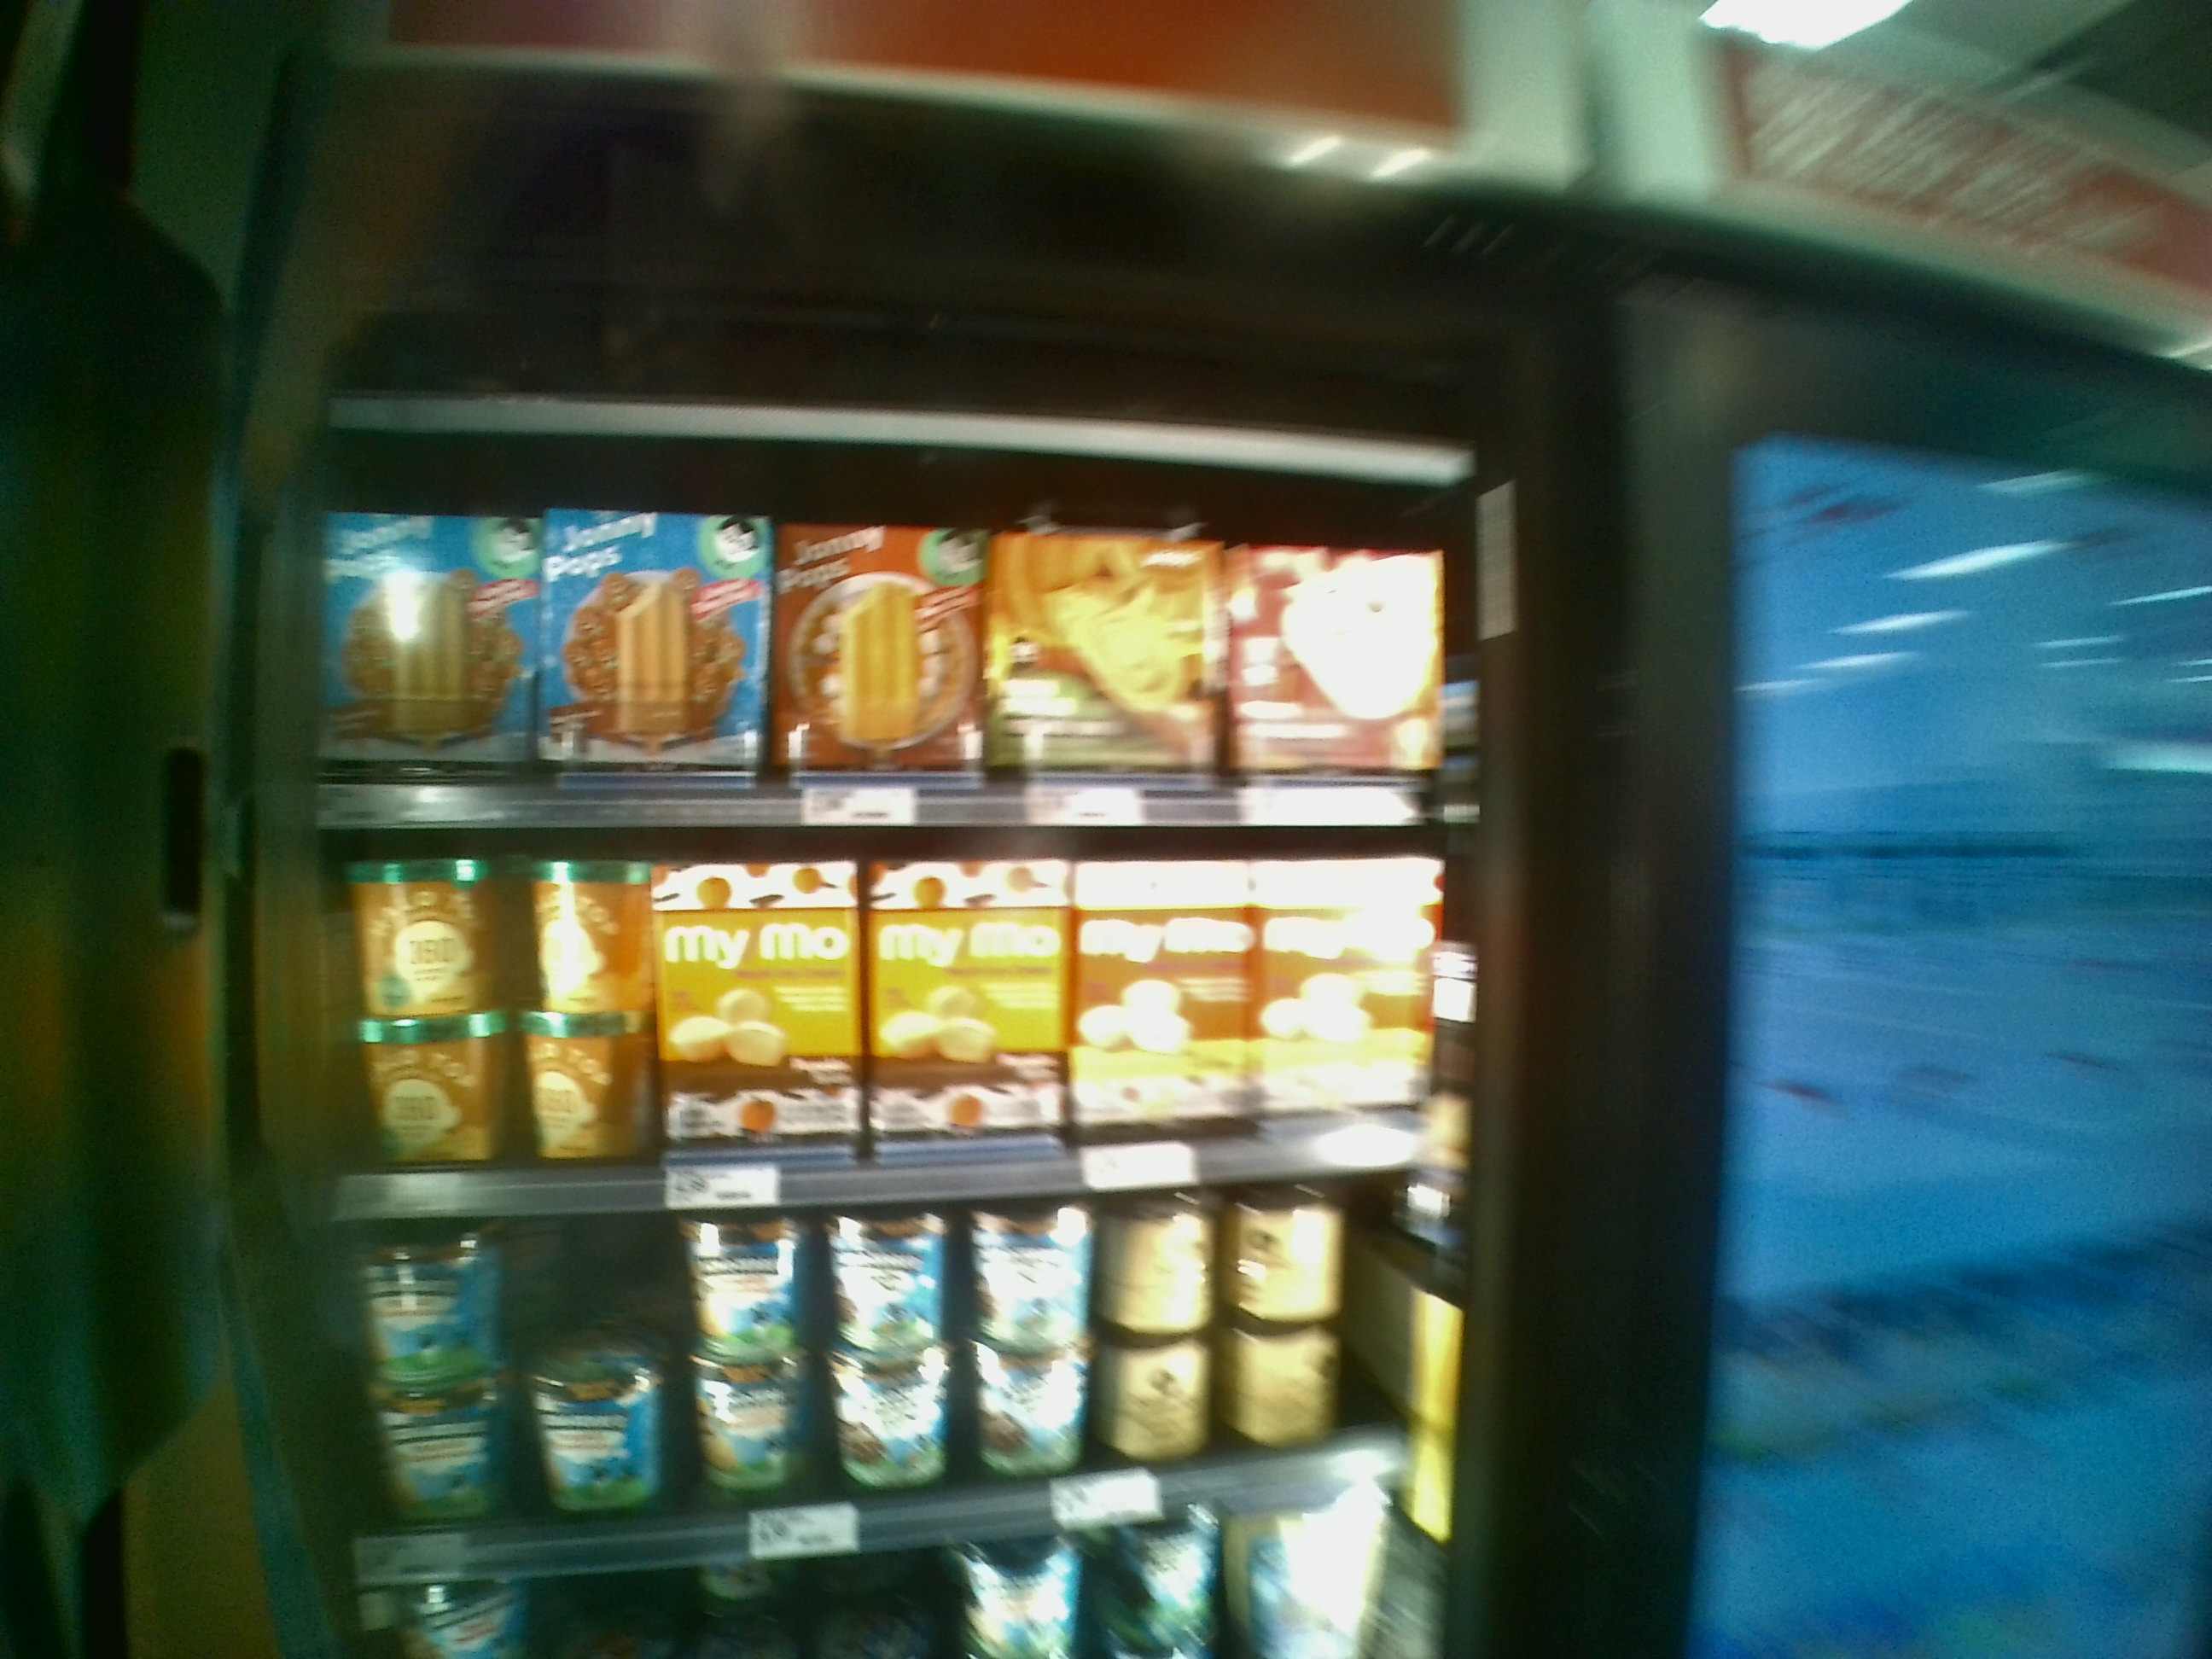shelf: (296, 416, 1446, 833), (279, 796, 1474, 1192), (294, 1185, 1465, 1535)
